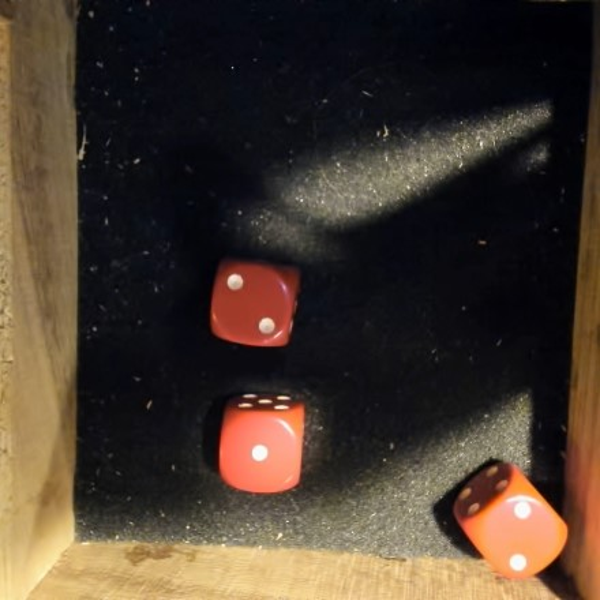red_die_pip1: (216, 394, 304, 493)
red_die_pip2: (440, 455, 579, 595), (204, 253, 299, 352)
